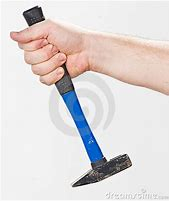hammer: (10, 5, 135, 189)
